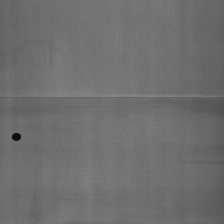welding_line: (1, 90, 224, 105), (11, 129, 26, 144)
